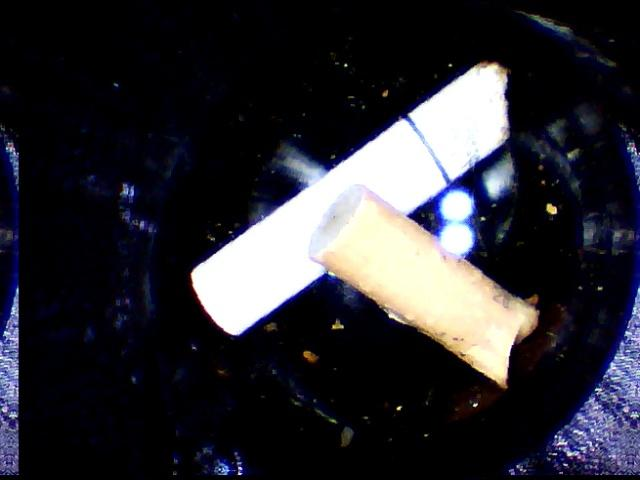megot: (177, 39, 533, 359), (287, 177, 554, 412)
